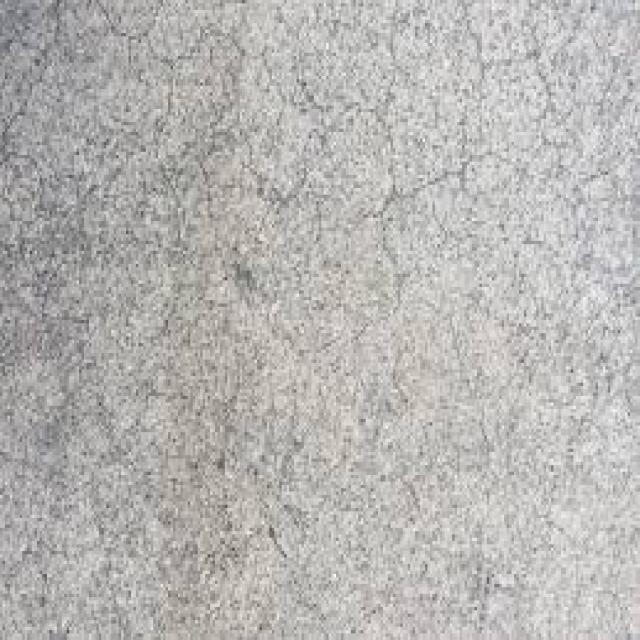crack: (99, 3, 315, 114), (376, 155, 482, 216)
